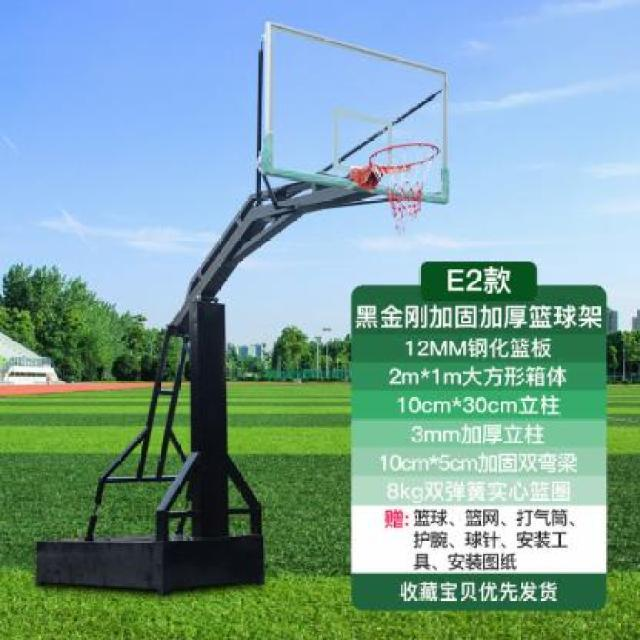rim: (370, 140, 438, 226)
